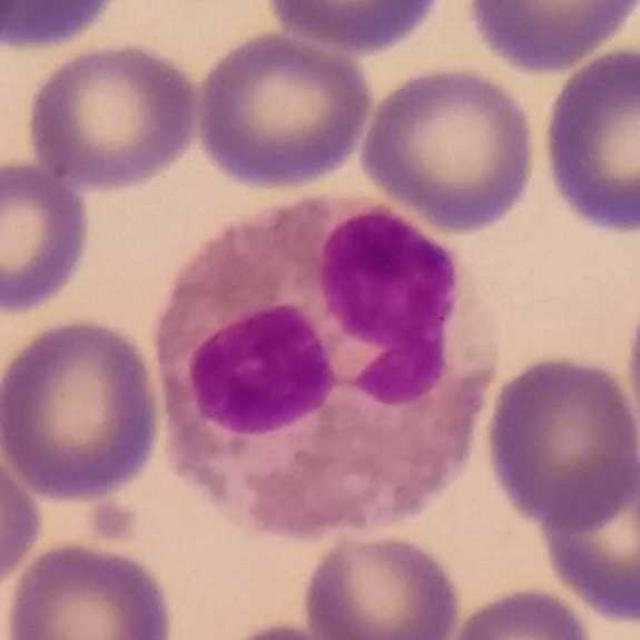eosino: (154, 194, 503, 537)
